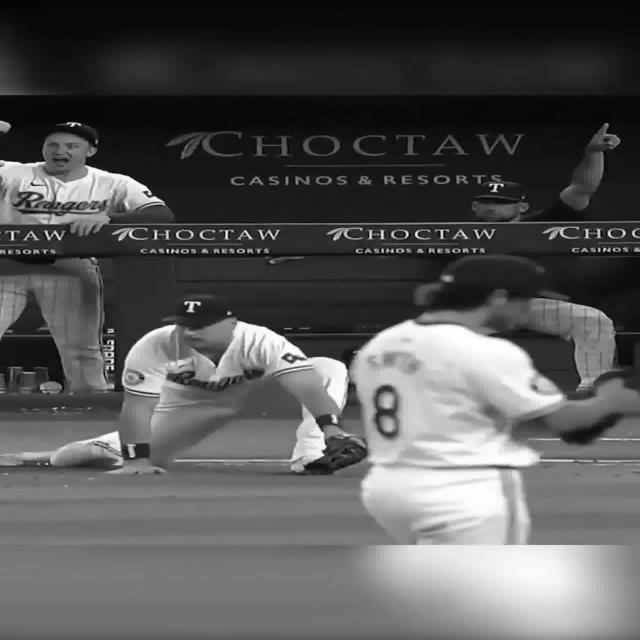base: (0, 452, 115, 468)
baseball_glove: (288, 433, 368, 475)
shoe: (49, 430, 123, 468)
